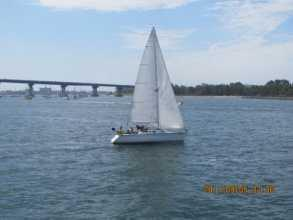fanchuan: (112, 25, 191, 146)
